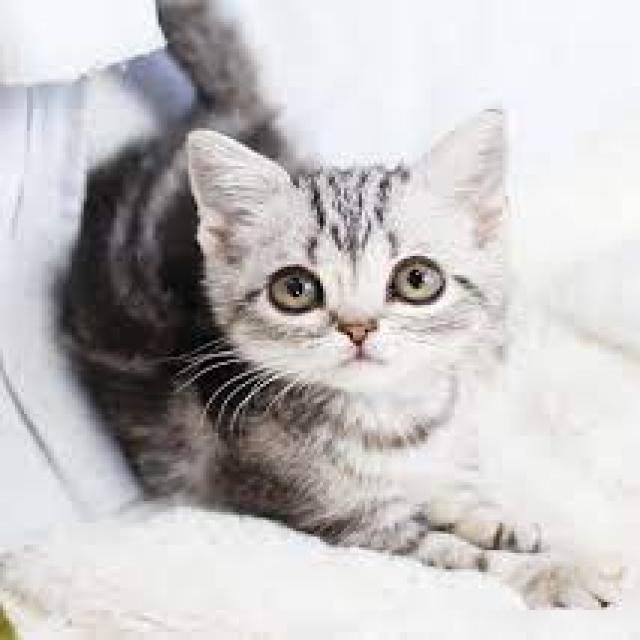cat-face: (130, 86, 600, 438)
